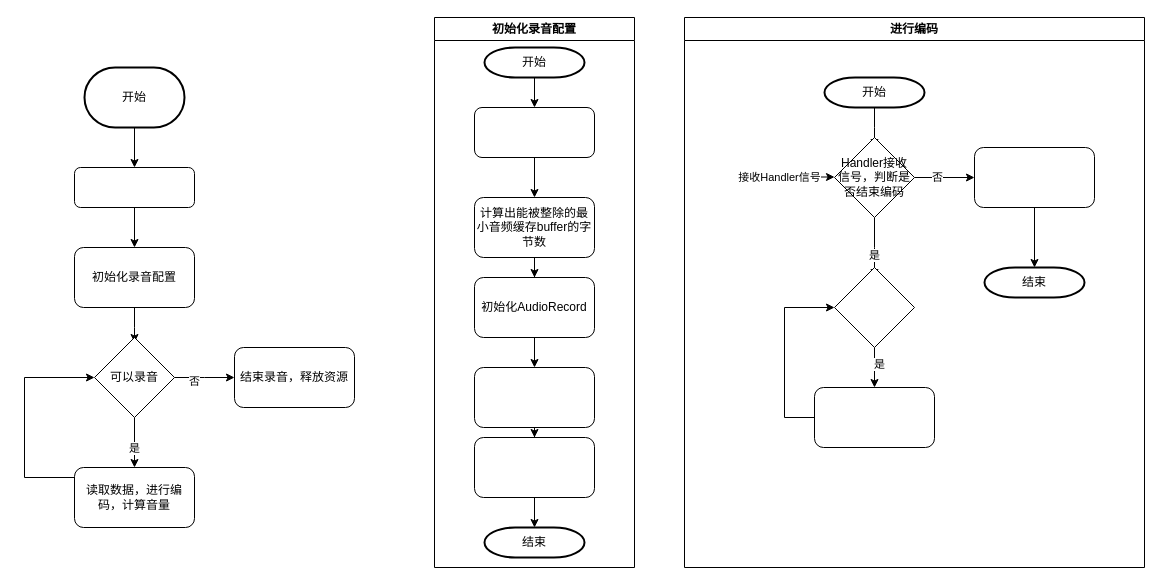
Some shapes in this 1162 by 585 pixel diagram are drawn without their labels. The shapes that lost their labels are listed below. From the top down, each one's box as (x1, y1, x2, y2) in pixels, then its label:
(474, 106, 594, 158): 创建录音保存文件
(74, 166, 194, 208): 按下按钮开始录制
(974, 146, 1094, 208): 进行最后一次读取编码后关闭线程
(834, 266, 914, 348): 是否有音频数据
(474, 366, 594, 428): 初始化Lame录制参数
(814, 386, 934, 448): Lame编码成MP3写入文件
(474, 436, 594, 498): 设置每160帧通知线程将音频数据编码成MP3
